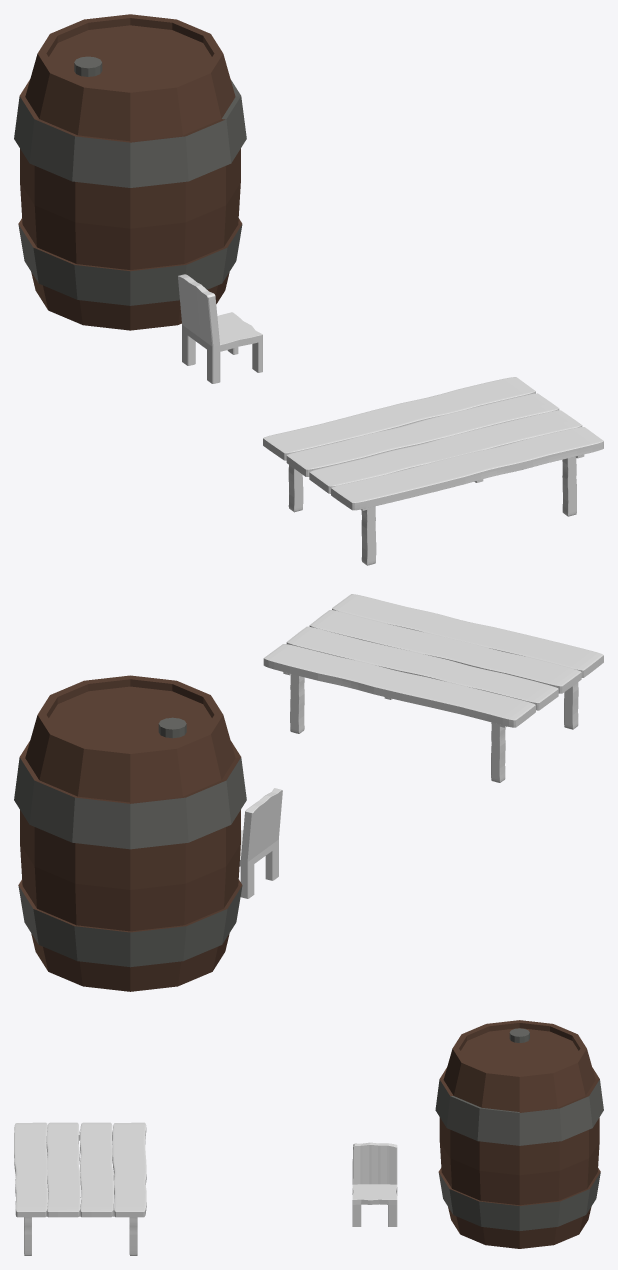
Rendered from Barrel.fbx.
3 views of the same model, one above another, from view 1: azimuth 30°, elevation 25°; view 2: azimuth 150°, elevation 25°; view 3: azimuth 270°, elevation 25° (orthographic). The views are drawn at different scales.
Parts seen in each view (by area): view 1: Barrel, TableSurface, Chair, Cube.005, Cube.008; view 2: Barrel, TableSurface, Chair, TableLegs, Cube.007, Cube.008; view 3: Barrel, TableSurface, Chair, TableLegs.
Part boxes in pixels (x1,y1,x2,y2): Barrel: [14, 14, 246, 330]; TableSurface: [263, 377, 603, 510]; Chair: [178, 274, 262, 383]; Cube.005: [562, 456, 576, 516]; Cube.008: [361, 506, 376, 565]; Barrel: [14, 675, 246, 991]; TableSurface: [263, 594, 603, 727]; Chair: [239, 788, 282, 898]; TableLegs: [290, 674, 304, 733]; Cube.007: [491, 722, 505, 782]; Cube.008: [564, 682, 578, 729]; Barrel: [435, 1020, 603, 1248]; TableSurface: [14, 1122, 146, 1217]; Chair: [352, 1142, 397, 1226]; TableLegs: [129, 1217, 137, 1255].
Size of the model in its own units: 308 by 279 by 859.
